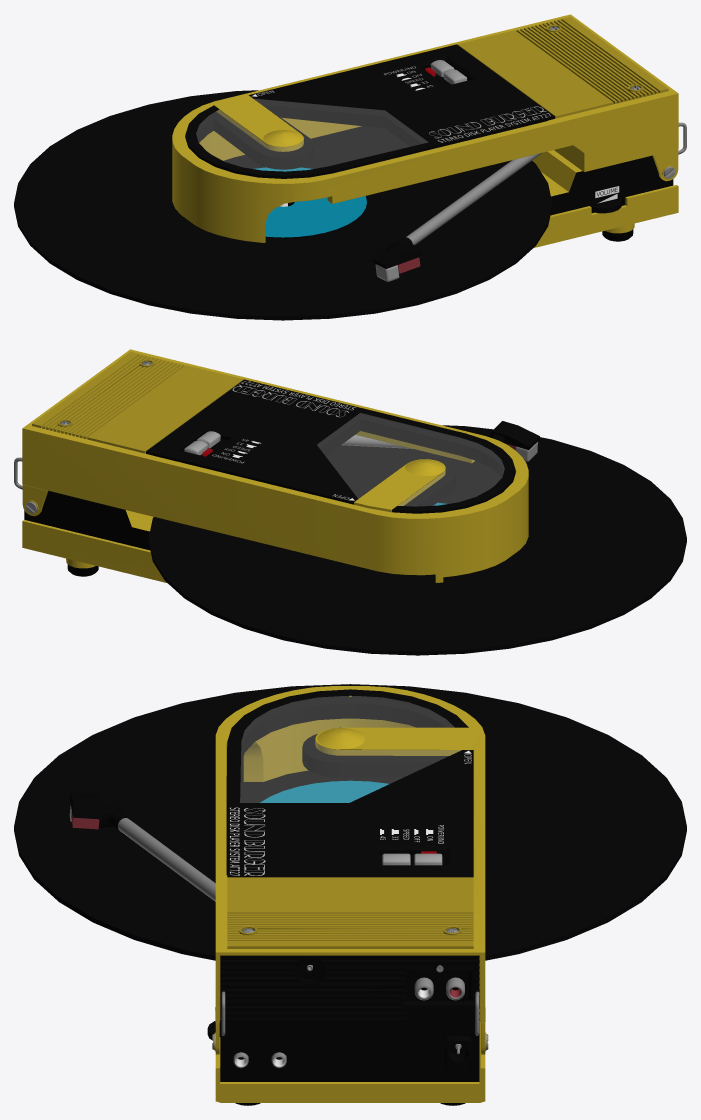
Rendered from record_player.glb.
3 views of the same model, one above another, from view 1: azimuth 30°, elevation 25°; view 2: azimuth 150°, elevation 25°; view 3: azimuth 270°, elevation 25° (orthographic). The views are drawn at different scales.
Parts seen in each view (by area): view 1: Circle_0, Plane_1, Plane.012_8, Plane.016_40, Plane.018_42, Plane.002_3, Plane.010_5, Plane.013_9, Cylinder.003_15, QBlock.009_12, INSTANT_022_229047fb-b82e-4ffd-b09d-8274e4a25434.001_43, Plane.014_10 (+1 smaller); view 2: Circle_0, Plane_1, Plane.012_8, Plane.016_40, Plane.018_42, Plane.002_3, Plane.010_5, Plane.013_9, QBlock.009_12, INSTANT_022_229047fb-b82e-4ffd-b09d-8274e4a25434.001_43, Plane.014_10, QBlock.008_19; view 3: Circle_0, Plane.012_8, Plane_1, Plane.002_3, Plane.016_40, Plane.018_42, QBlock.003_20, Plane.010_5, Plane.013_9, Cylinder.003_15, INSTANT_022_229047fb-b82e-4ffd-b09d-8274e4a25434.001_43, QBlock.026_28 (+5 smaller).
Part boxes in pixels (box(x1,y1,x2,y2)): Circle_0: box(14, 90, 552, 320); Plane_1: box(172, 14, 678, 242); Plane.012_8: box(185, 44, 554, 178); Plane.016_40: box(457, 16, 668, 118); Plane.018_42: box(196, 99, 427, 171); Plane.002_3: box(532, 150, 678, 247); Plane.010_5: box(197, 69, 468, 169); Plane.013_9: box(214, 95, 303, 151); Cylinder.003_15: box(406, 152, 542, 244); QBlock.009_12: box(373, 241, 423, 268); INSTANT_022_229047fb-b82e-4ffd-b09d-8274e4a25434.001_43: box(429, 106, 550, 142); Plane.014_10: box(263, 130, 303, 146); Circle_0: box(148, 425, 686, 655); Plane_1: box(22, 349, 528, 582); Plane.012_8: box(146, 379, 515, 513); Plane.016_40: box(32, 351, 243, 453); Plane.018_42: box(317, 413, 504, 506); Plane.002_3: box(22, 491, 167, 583); Plane.010_5: box(200, 418, 503, 506); Plane.013_9: box(354, 459, 445, 512); QBlock.009_12: box(489, 421, 539, 449); INSTANT_022_229047fb-b82e-4ffd-b09d-8274e4a25434.001_43: box(232, 381, 355, 417); Plane.014_10: box(405, 459, 444, 476); QBlock.008_19: box(184, 431, 220, 455); Circle_0: box(14, 684, 686, 960); Plane.012_8: box(227, 689, 473, 877); Plane_1: box(215, 686, 485, 1054); Plane.002_3: box(215, 1020, 485, 1102); Plane.016_40: box(227, 877, 473, 948); Plane.018_42: box(240, 696, 460, 802); QBlock.003_20: box(220, 955, 479, 1020); Plane.010_5: box(227, 703, 448, 874); Plane.013_9: box(315, 727, 473, 755); Cylinder.003_15: box(118, 818, 215, 901); INSTANT_022_229047fb-b82e-4ffd-b09d-8274e4a25434.001_43: box(230, 807, 265, 875); QBlock.026_28: box(406, 1007, 474, 1021).
Size of the model in its own units: 2.43 by 0.5867 by 1.93.
18 materials, 4 textured.
